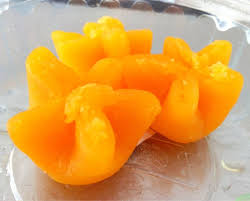tongyip: (5, 41, 162, 199), (127, 20, 245, 153)
